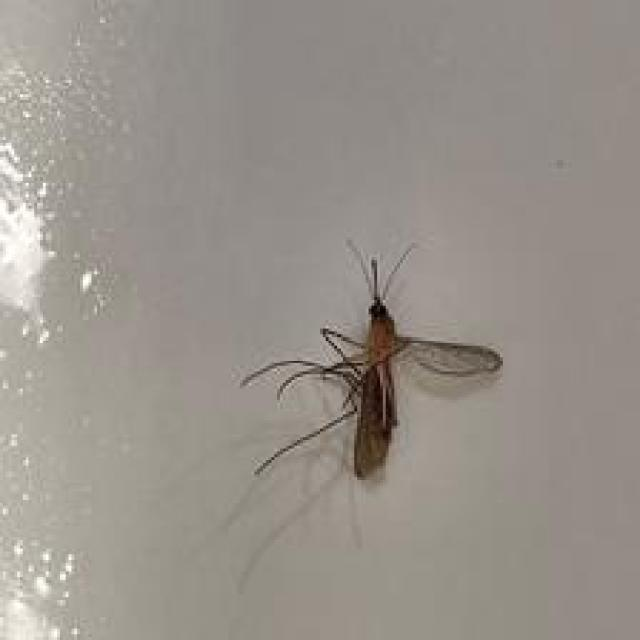Culex: (239, 237, 504, 483)
